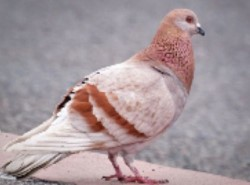pigeon: (1, 7, 209, 185)
